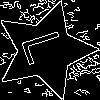L: (20, 25, 75, 66)
